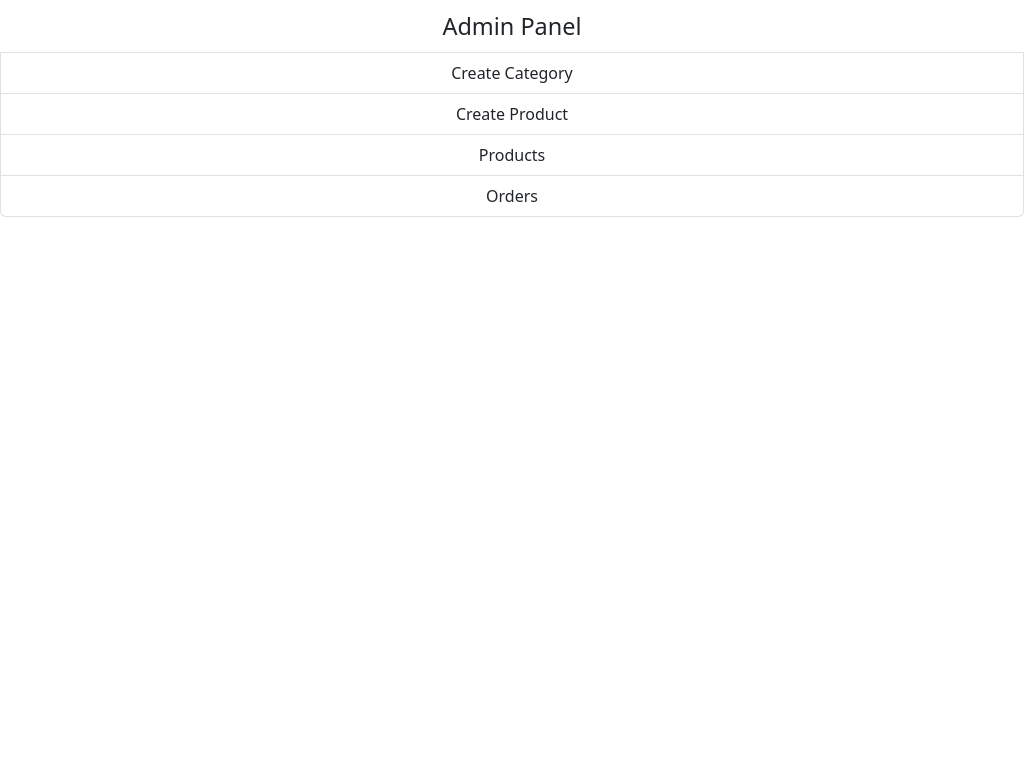
Test: AdminMenu Integration Tests › navigates to Create Product page from AdminMenu
The width and height of the screenshot is (1024, 780).
Click the link "Create Product" at (512, 114), box left=0, top=94, right=1023, bottom=135
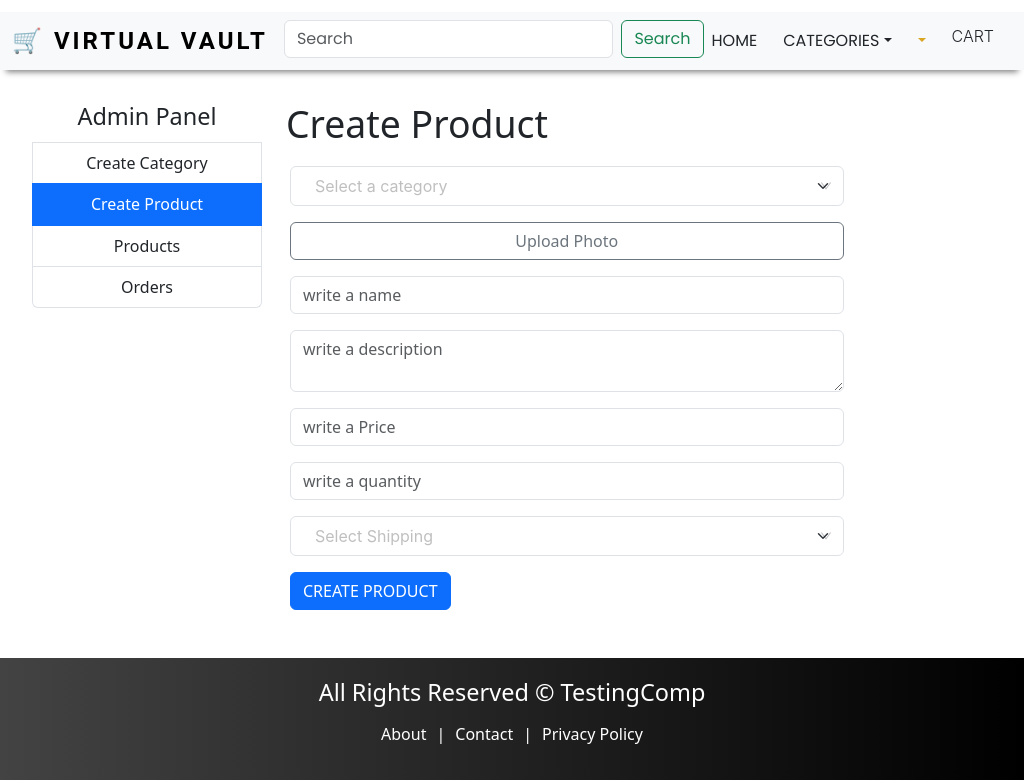
Now the heading "Create Product" is shown, box left=286, top=98, right=548, bottom=149
